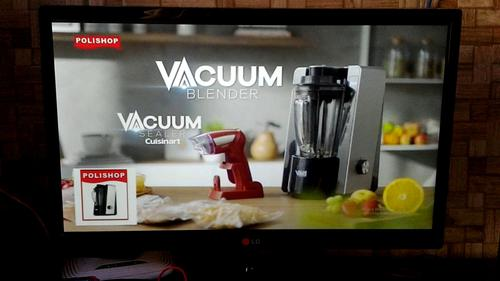Polishop #1: (73, 169, 136, 225)
